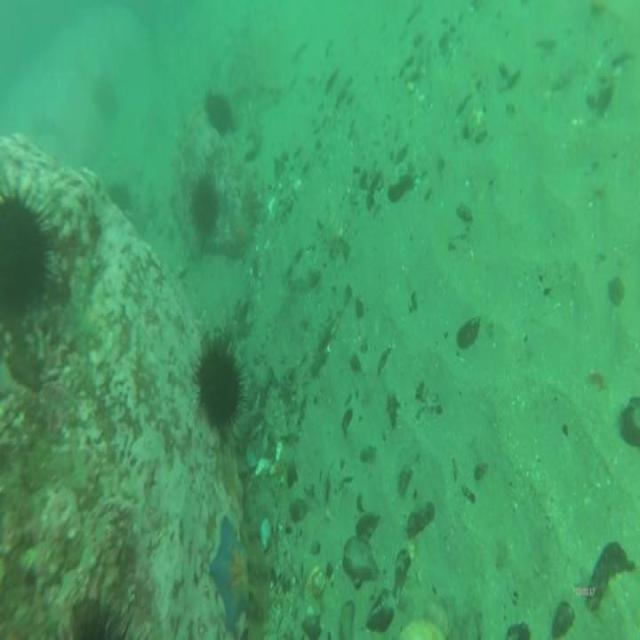echinus: (0, 198, 46, 316), (196, 346, 242, 427), (192, 175, 219, 237), (205, 92, 231, 134)
starfish: (208, 517, 251, 632), (230, 215, 254, 250)
